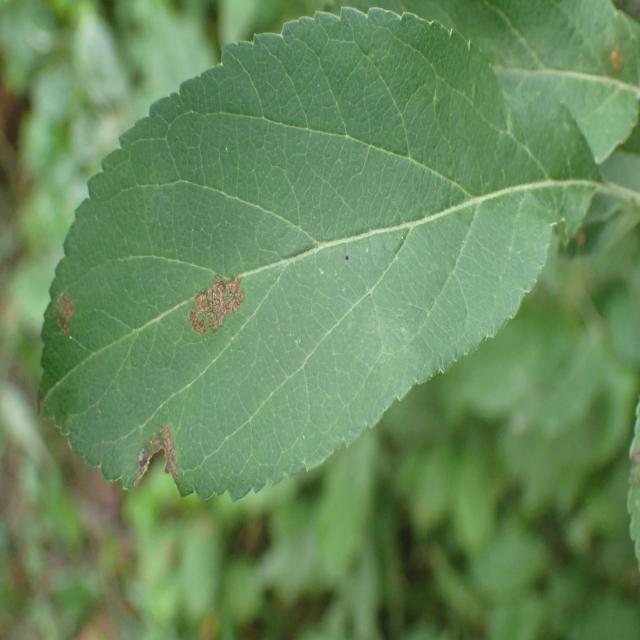scab: (38, 205, 448, 532)
